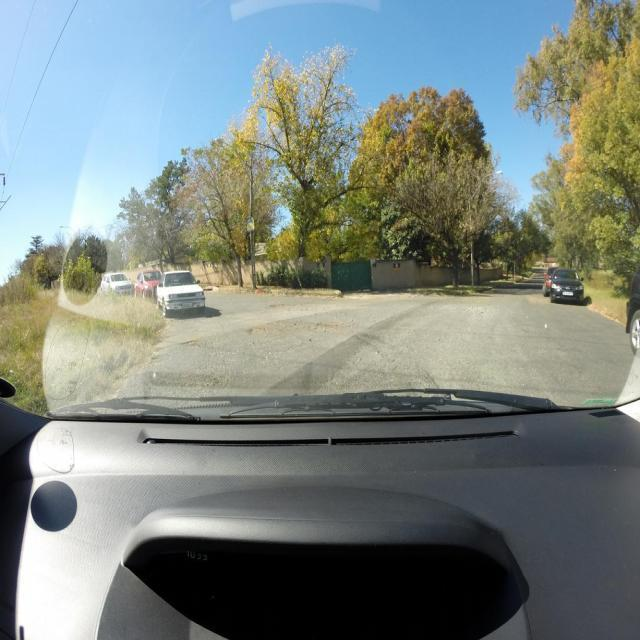pothole: (310, 322, 338, 330), (249, 326, 269, 334), (269, 303, 291, 309)
